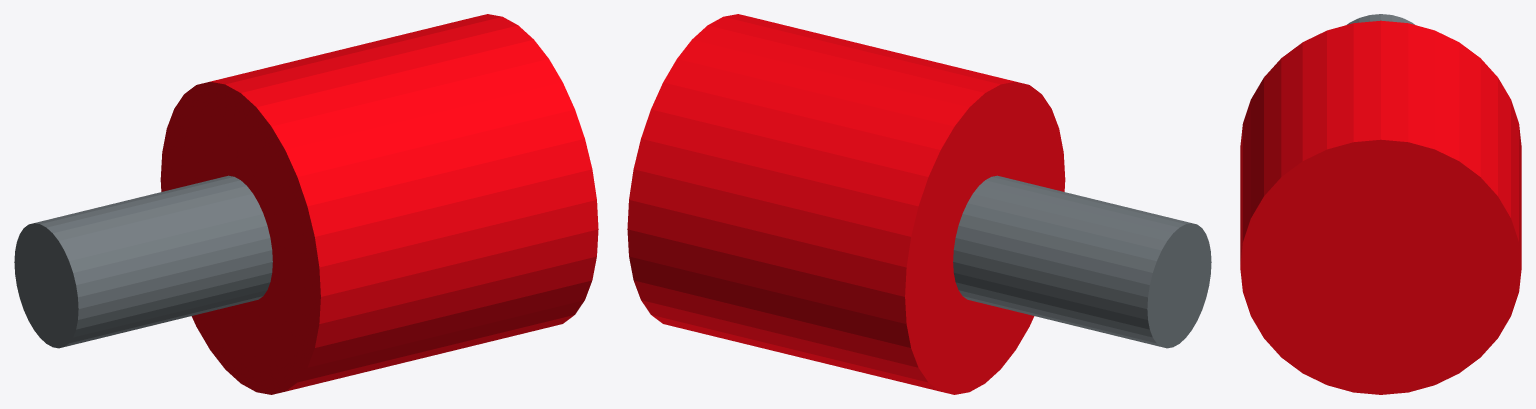
The model's file is wireNew.fbx.
3 renders of one model, left to right at view 1: azimuth 30°, elevation 25°; view 2: azimuth 150°, elevation 25°; view 3: azimuth 270°, elevation 25°, orthographic. The views are drawn at different scales.
Parts seen in each view (by area): view 1: Cylinder; view 2: Cylinder; view 3: Cylinder.
Boxes of the visible parts, left/top/right/bottom form: Cylinder: left=14, top=14, right=598, bottom=394; Cylinder: left=627, top=14, right=1211, bottom=394; Cylinder: left=1240, top=14, right=1521, bottom=394.
Size of the model in its own units: 1.7 by 1 by 1.
